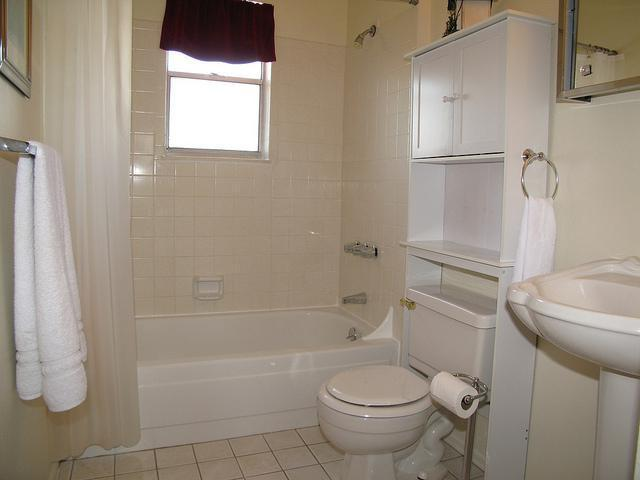Lavamanos: (517, 247, 639, 479)
